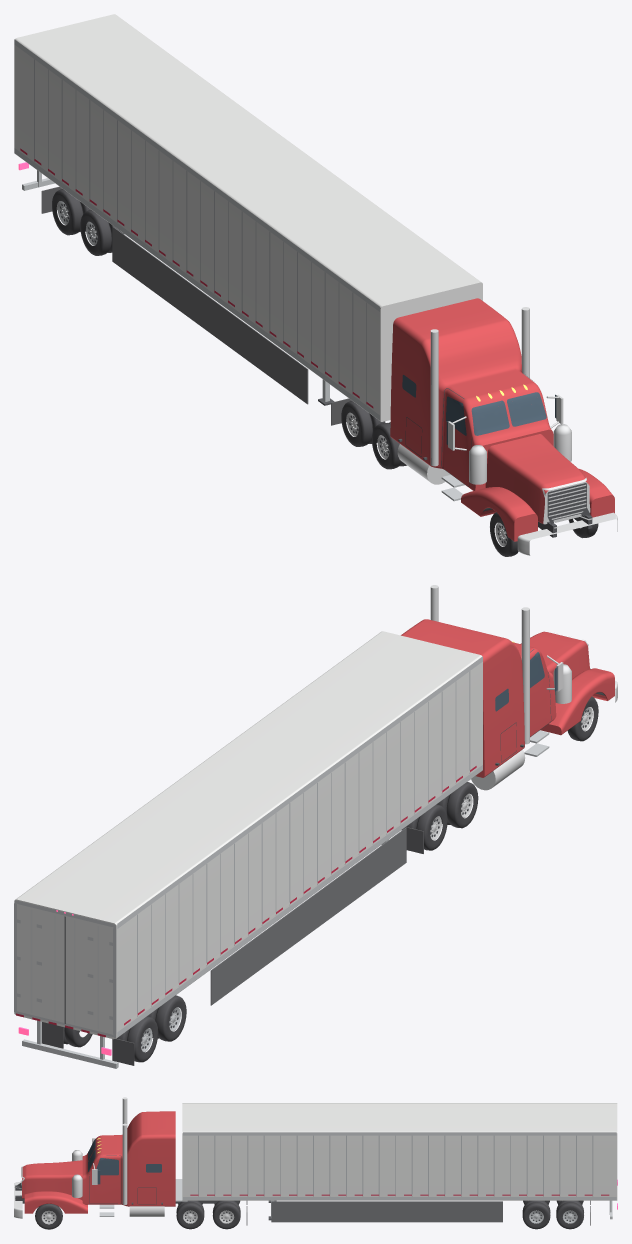
Rendered from truck-semi.glb.
3 renders of one model, top to bottom at view 1: azimuth 30°, elevation 25°; view 2: azimuth 150°, elevation 25°; view 3: azimuth 270°, elevation 25°, orthographic. The views are drawn at different scales.
Parts seen in each view (by area): view 1: truck-semi; view 2: truck-semi; view 3: truck-semi.
Part boxes in pixels (x1,y1,x2,y2): truck-semi: (14, 14, 617, 556); truck-semi: (14, 585, 617, 1068); truck-semi: (14, 1097, 617, 1229).
Size of the model in its own units: 2.81 by 4.35 by 22.42.
